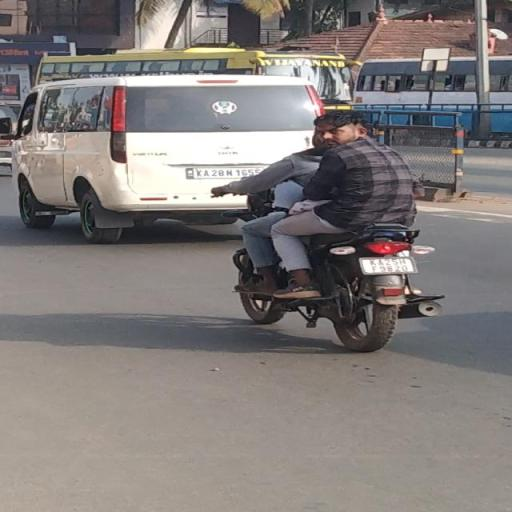bike: (208, 104, 452, 354)
numberplate: (359, 254, 415, 277)
withouthelmet: (318, 111, 364, 143)
